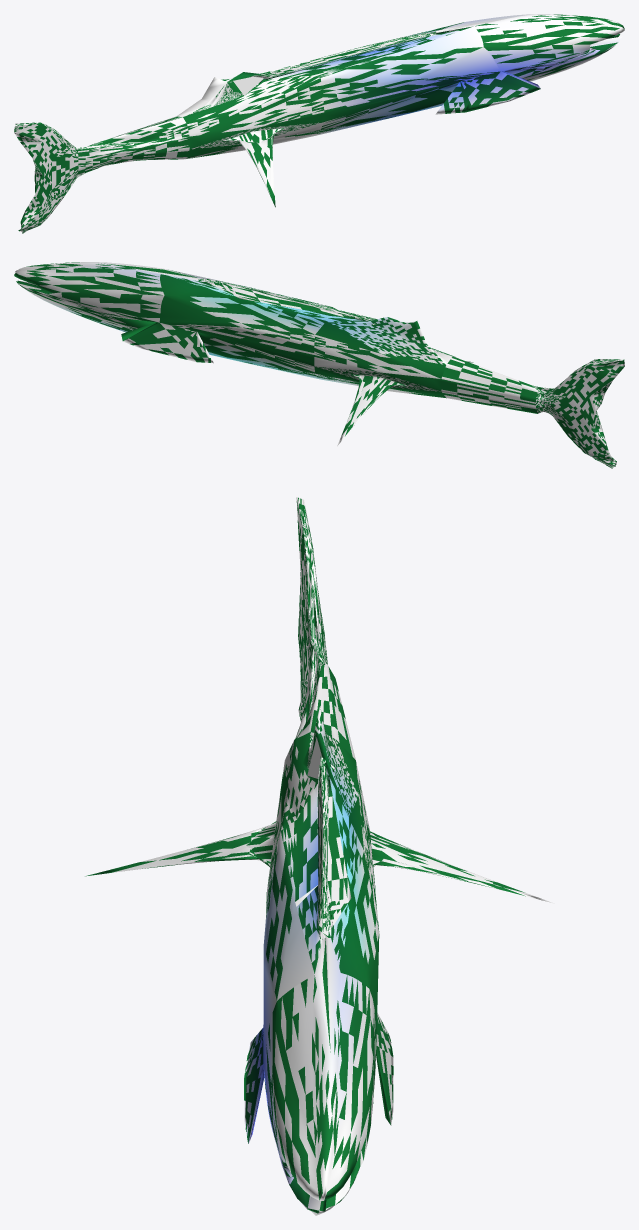
The model's file is FNPike.glb.
The picture shows the model from 3 angles, top to bottom: view 1: azimuth 30°, elevation 25°; view 2: azimuth 150°, elevation 25°; view 3: azimuth 270°, elevation 25°; orthographic projection. The views are drawn at different scales.
Visible parts, largest first — view 1: fish low poly; view 2: fish low poly; view 3: fish low poly.
Boxes of the visible parts, <box> form: fish low poly: <box>14,14,624,233</box>; fish low poly: <box>14,262,624,468</box>; fish low poly: <box>85,497,554,1215</box>.
Bounding box in the file's own units: 5.89 × 1.03 × 1.99.
